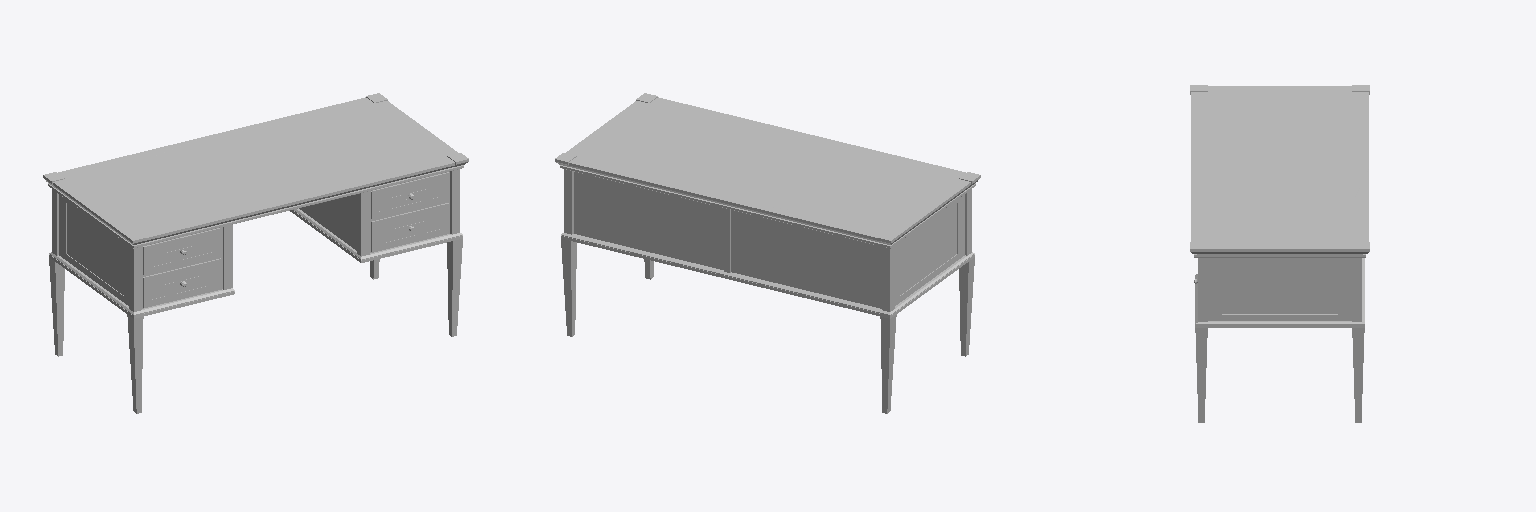
Rendered from Desk.obj.
3 views of the same model, side by side, from view 1: azimuth 30°, elevation 25°; view 2: azimuth 150°, elevation 25°; view 3: azimuth 270°, elevation 25° (orthographic).
Parts seen in each view (by area): view 1: Desk; view 2: Desk; view 3: Desk.
Part boxes in pixels (bbox=[...]): Desk: bbox=[43, 93, 468, 413]; Desk: bbox=[555, 93, 980, 413]; Desk: bbox=[1190, 85, 1369, 422].
Bounding box in the file's own units: 1.82 × 0.9225 × 0.8466.